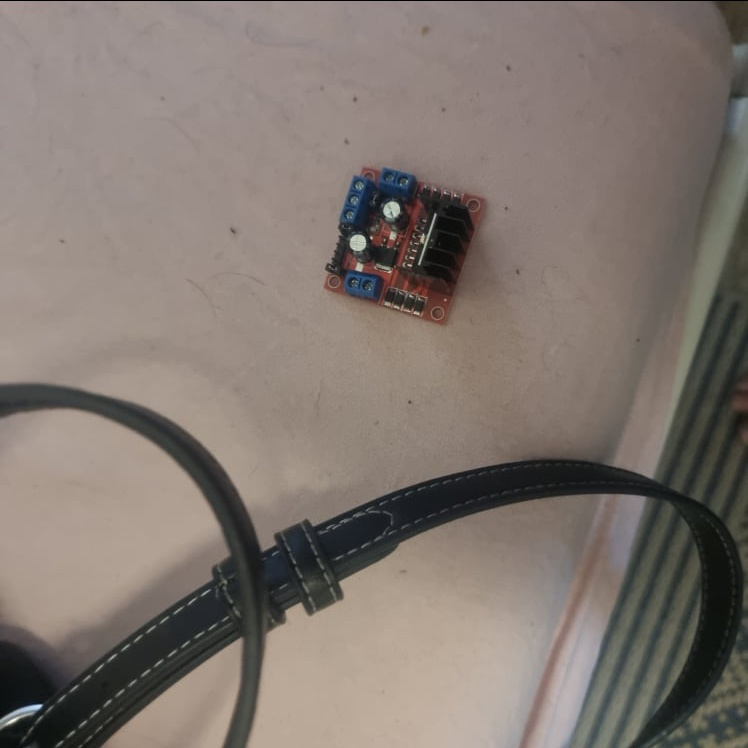MOTOR: (322, 163, 489, 327)
